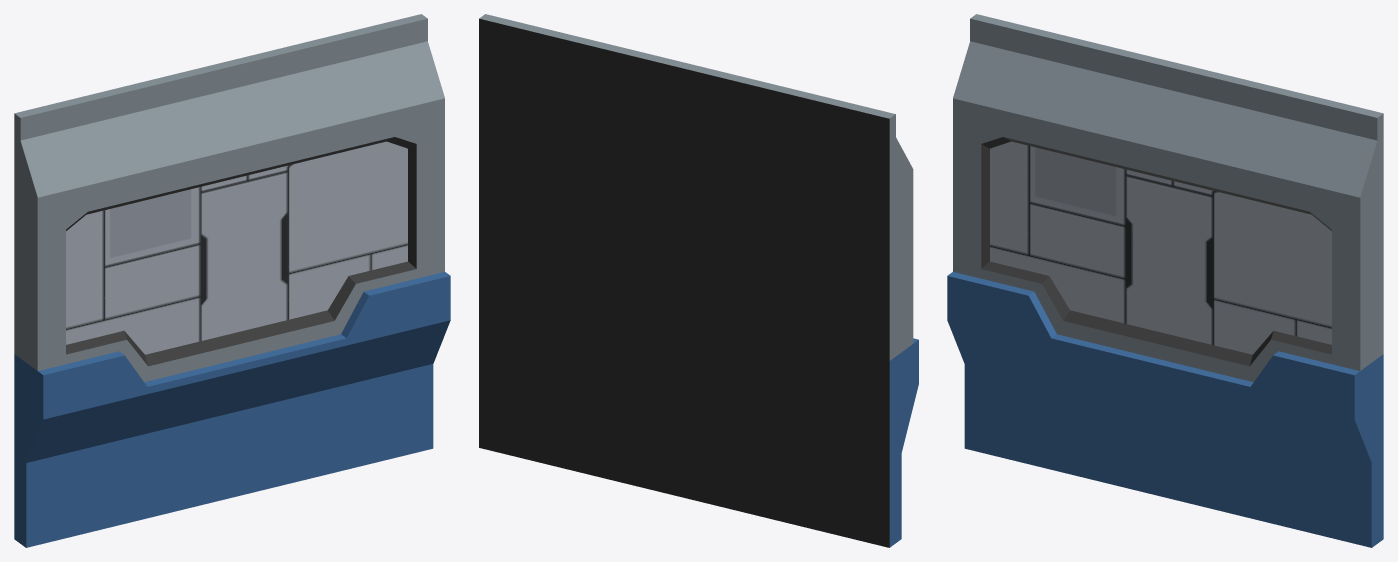
File: SM_Bld_Wall_Exterior_03.fbx
The picture shows the model from 3 angles, left to right: view 1: azimuth 30°, elevation 25°; view 2: azimuth 150°, elevation 25°; view 3: azimuth 330°, elevation 25°; orthographic projection.
Visible parts, largest first — view 1: SM_Bld_Wall_Exterior_03; view 2: SM_Bld_Wall_Exterior_03; view 3: SM_Bld_Wall_Exterior_03.
Part boxes in pixels (left/top/right/bottom): SM_Bld_Wall_Exterior_03: left=14, top=14, right=450, bottom=547; SM_Bld_Wall_Exterior_03: left=479, top=14, right=918, bottom=547; SM_Bld_Wall_Exterior_03: left=947, top=14, right=1383, bottom=547.
Bounding box in the file's own units: 500 × 500 × 62.08.
Materials: 1 (1 with a texture image).
